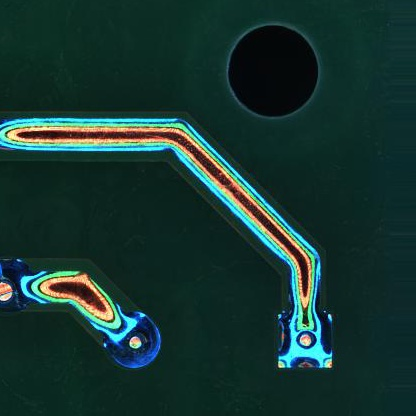spot: (274, 310, 335, 371), (107, 310, 160, 370)
